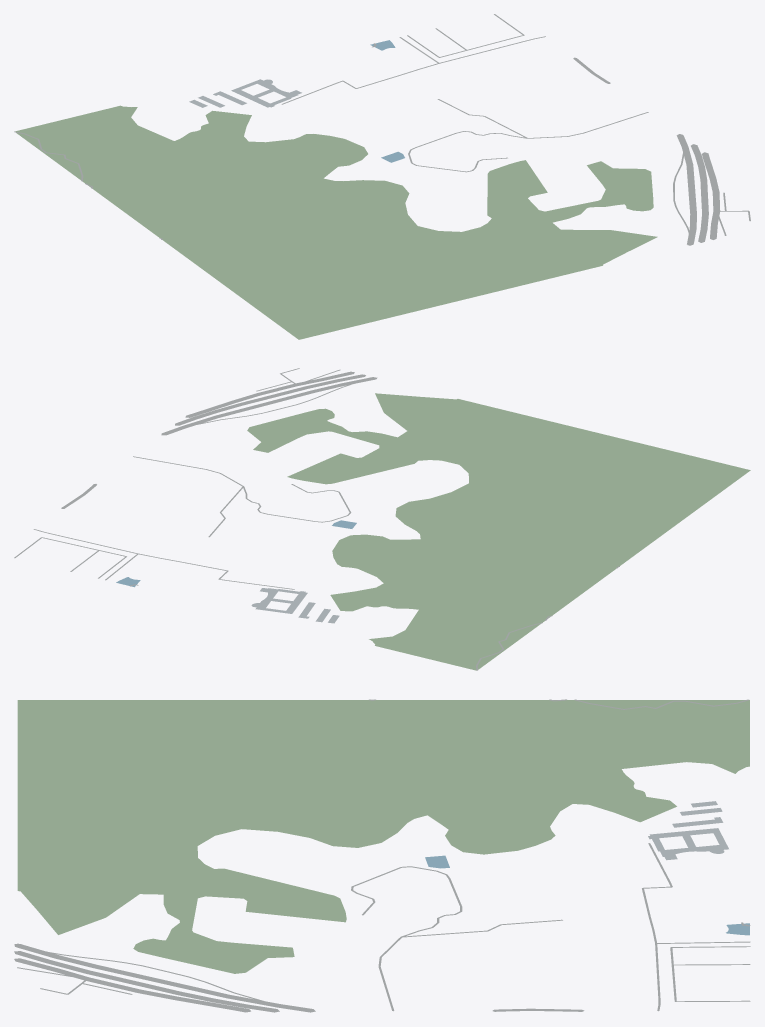
Rendered from -18_11-known-fine.glb.
3 renders of one model, top to bottom at view 1: azimuth 30°, elevation 25°; view 2: azimuth 150°, elevation 25°; view 3: azimuth 270°, elevation 25°, orthographic. The views are drawn at different scales.
Bounding box in the file's own units: 1007 × 0.15 × 1001.
